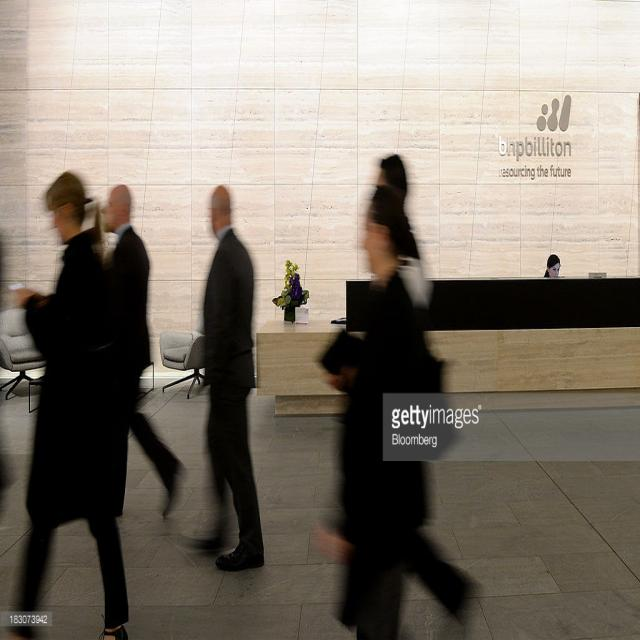body: (308, 179, 480, 639), (0, 166, 142, 639), (180, 179, 278, 580), (100, 182, 186, 528), (374, 152, 424, 289), (0, 222, 9, 501), (543, 253, 561, 277)
